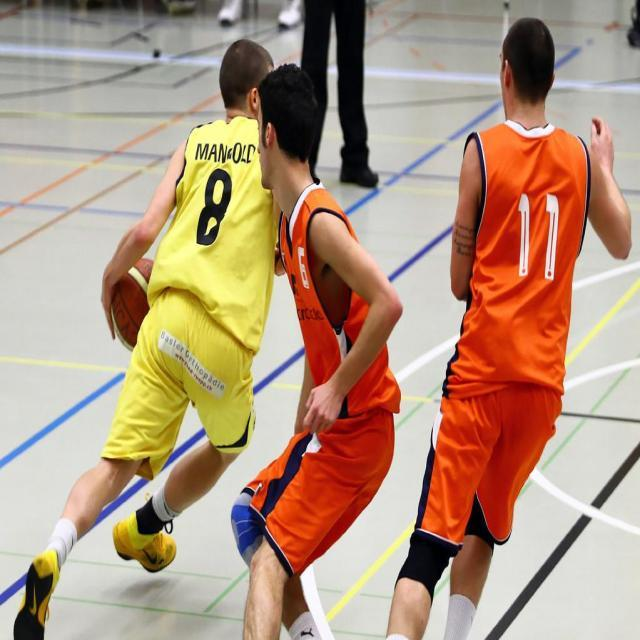rim: (109, 252, 161, 348)
